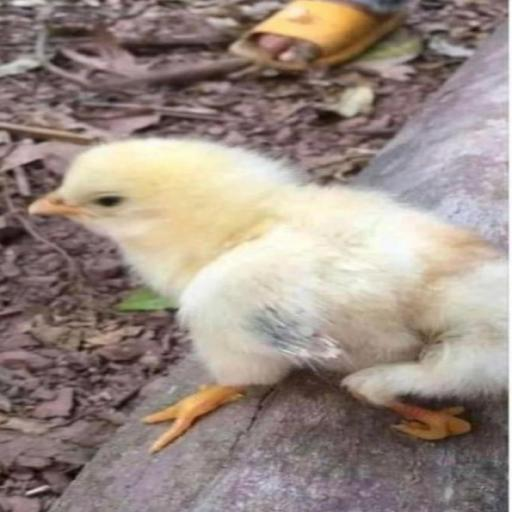healthy: (39, 136, 188, 247)
